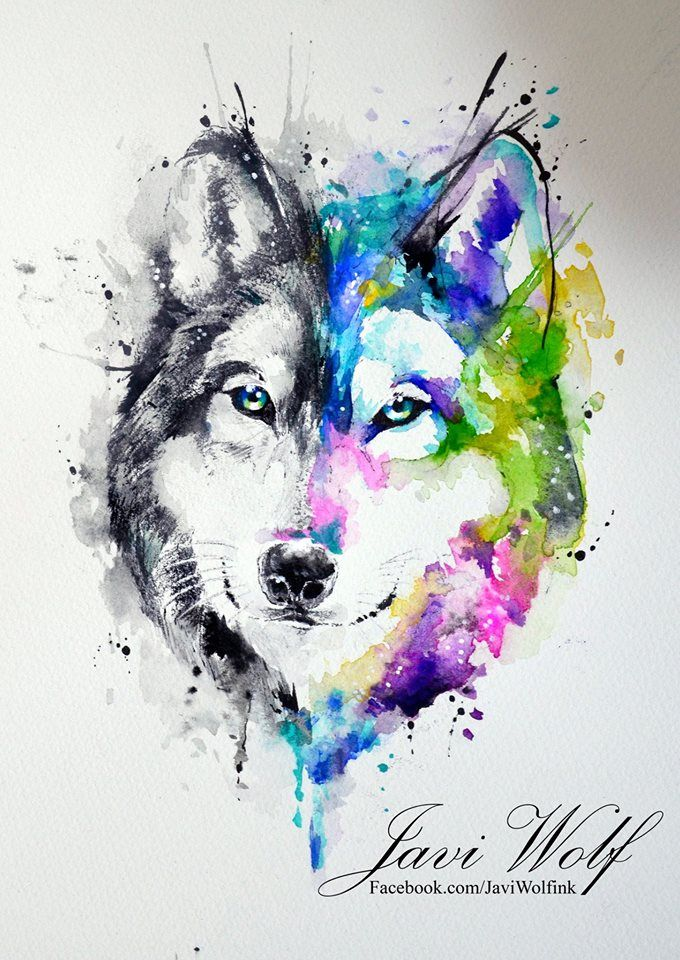Lobo: (92, 99, 615, 784)
